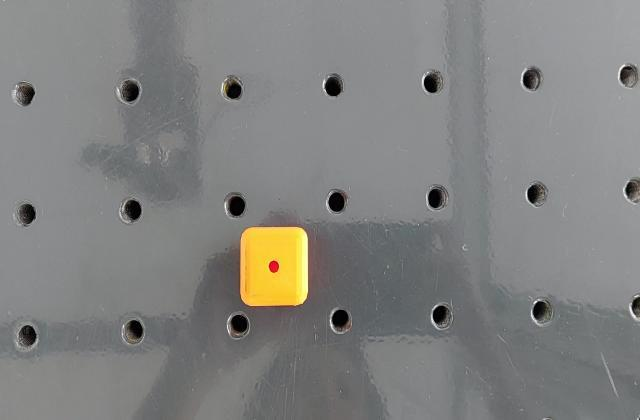cube: (238, 225, 310, 310)
